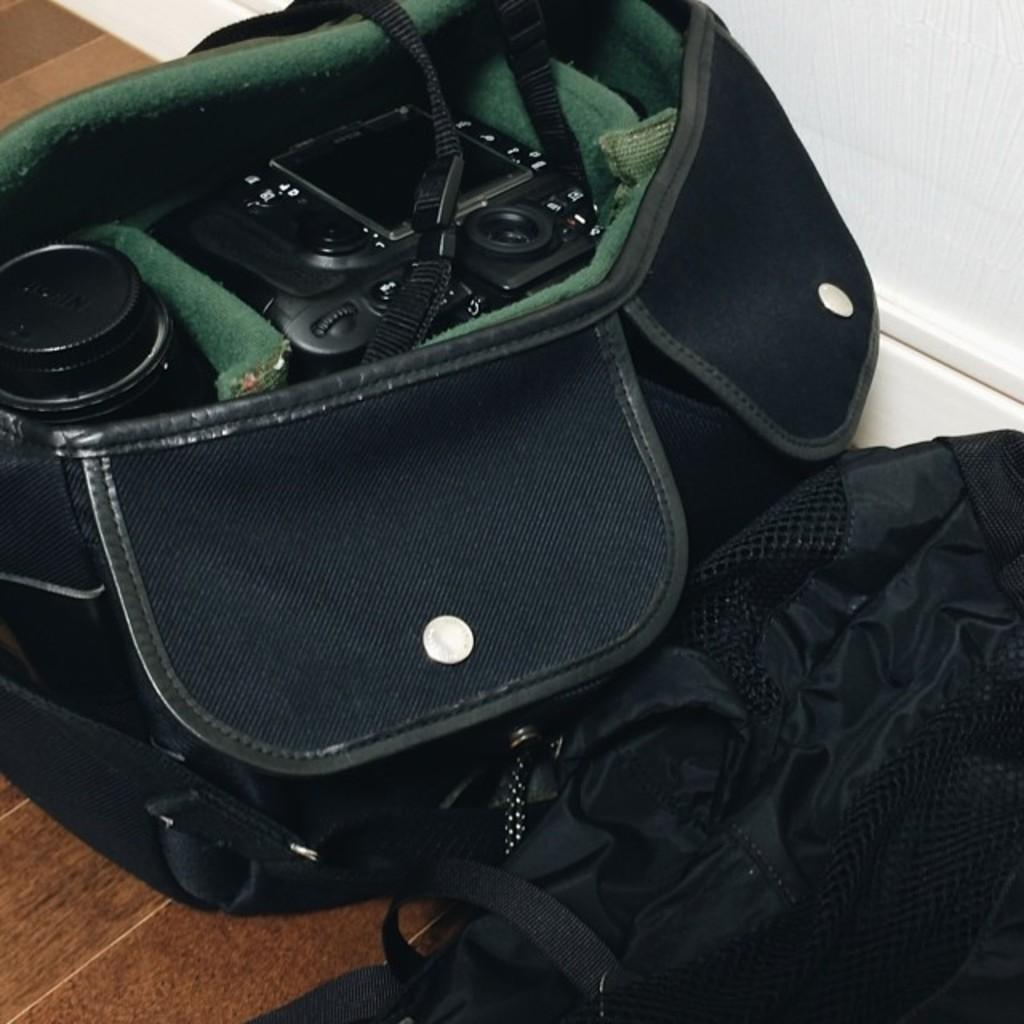Luggage-and-bags: (242, 426, 1022, 1022)
